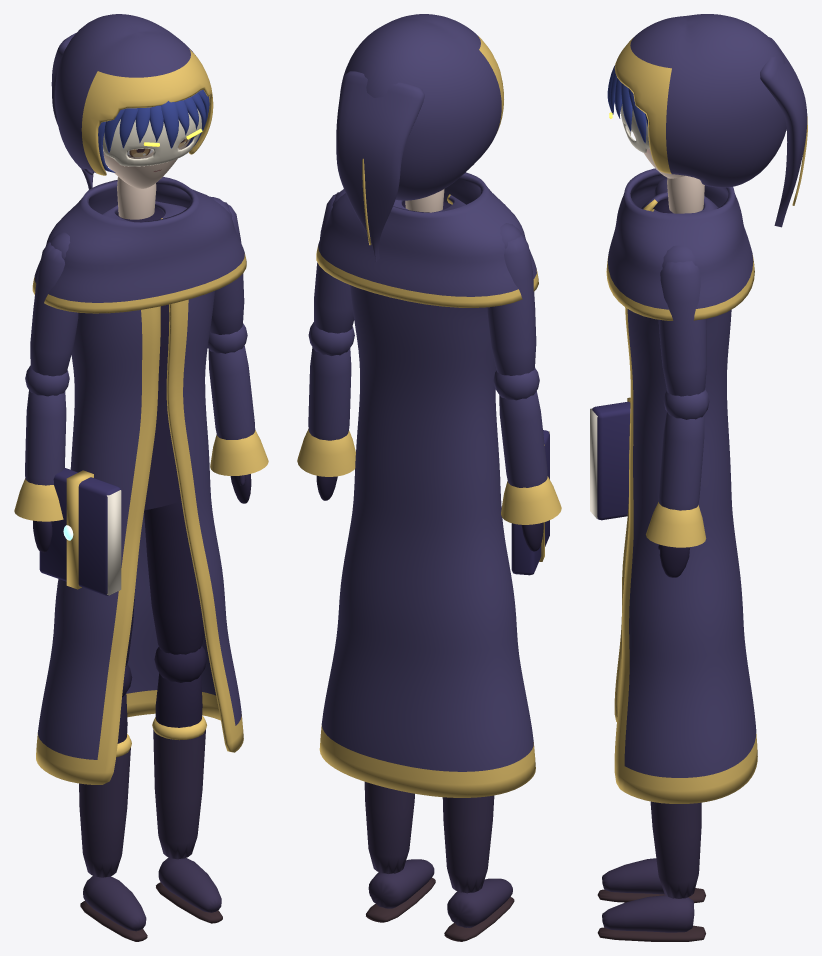
Rendered from sable.glb.
3 renders of one model, left to right at view 1: azimuth 30°, elevation 25°; view 2: azimuth 150°, elevation 25°; view 3: azimuth 270°, elevation 25°, orthographic. The views are drawn at different scales.
Visible parts, largest first — view 1: sable:body.mesh, sable:head.mesh, sable:foreL.mesh, sable:shinR.mesh, sable:shinL.mesh, sable:legR.mesh, sable:foreR.mesh, sable:armL.mesh, sable:armR.mesh; view 2: sable:body.mesh, sable:head.mesh, sable:foreL.mesh, sable:shinL.mesh, sable:foreR.mesh, sable:shinR.mesh, sable:armL.mesh, sable:armR.mesh; view 3: sable:body.mesh, sable:head.mesh, sable:shinR.mesh, sable:foreR.mesh, sable:armR.mesh, sable:foreL.mesh, sable:shinL.mesh.
Part boxes in pixels (bbox=[...]): sable:body.mesh: bbox=[32, 177, 246, 784]; sable:head.mesh: bbox=[51, 14, 213, 219]; sable:foreL.mesh: bbox=[14, 365, 121, 595]; sable:shinR.mesh: bbox=[152, 646, 222, 923]; sable:shinL.mesh: bbox=[79, 664, 147, 941]; sable:legR.mesh: bbox=[144, 501, 204, 654]; sable:foreR.mesh: bbox=[207, 323, 268, 503]; sable:armL.mesh: bbox=[30, 232, 78, 376]; sable:armR.mesh: bbox=[210, 196, 244, 334]; sable:body.mesh: bbox=[316, 172, 538, 797]; sable:head.mesh: bbox=[336, 14, 503, 261]; sable:foreL.mesh: bbox=[493, 368, 561, 575]; sable:shinL.mesh: bbox=[442, 795, 514, 941]; sable:foreR.mesh: bbox=[297, 322, 355, 500]; sable:shinR.mesh: bbox=[364, 782, 435, 922]; sable:armL.mesh: bbox=[487, 223, 536, 375]; sable:armR.mesh: bbox=[314, 189, 354, 333]; sable:body.mesh: bbox=[606, 168, 757, 803]; sable:head.mesh: bbox=[607, 14, 807, 227]; sable:shinR.mesh: bbox=[597, 801, 705, 941]; sable:foreR.mesh: bbox=[646, 389, 709, 577]; sable:armR.mesh: bbox=[658, 245, 706, 396]; sable:foreL.mesh: bbox=[590, 397, 630, 520]; sable:shinL.mesh: bbox=[597, 858, 705, 903].
Bounding box in the file's own units: 0.4936 × 1.67 × 0.3669.
Materials: 22 (1 with a texture image).
